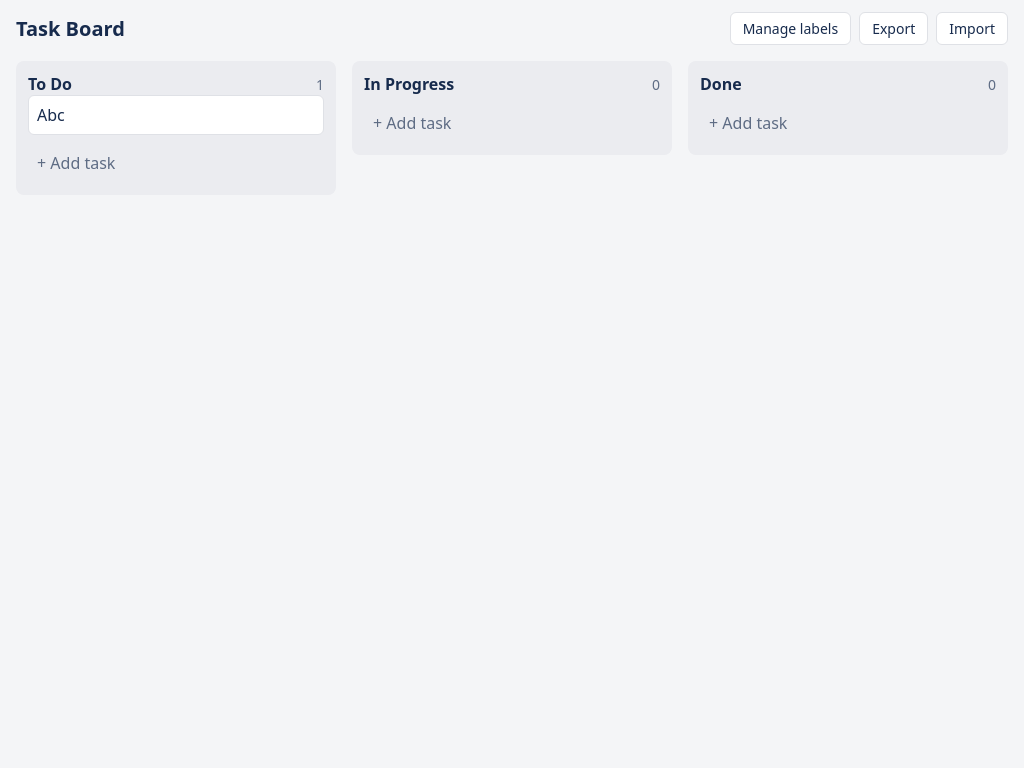
Test: Keyboard use of the modal › reverts a cleared title when closed with Escape
Click the heading "Abc".
click(51, 115)  # box [37,104,65,126]
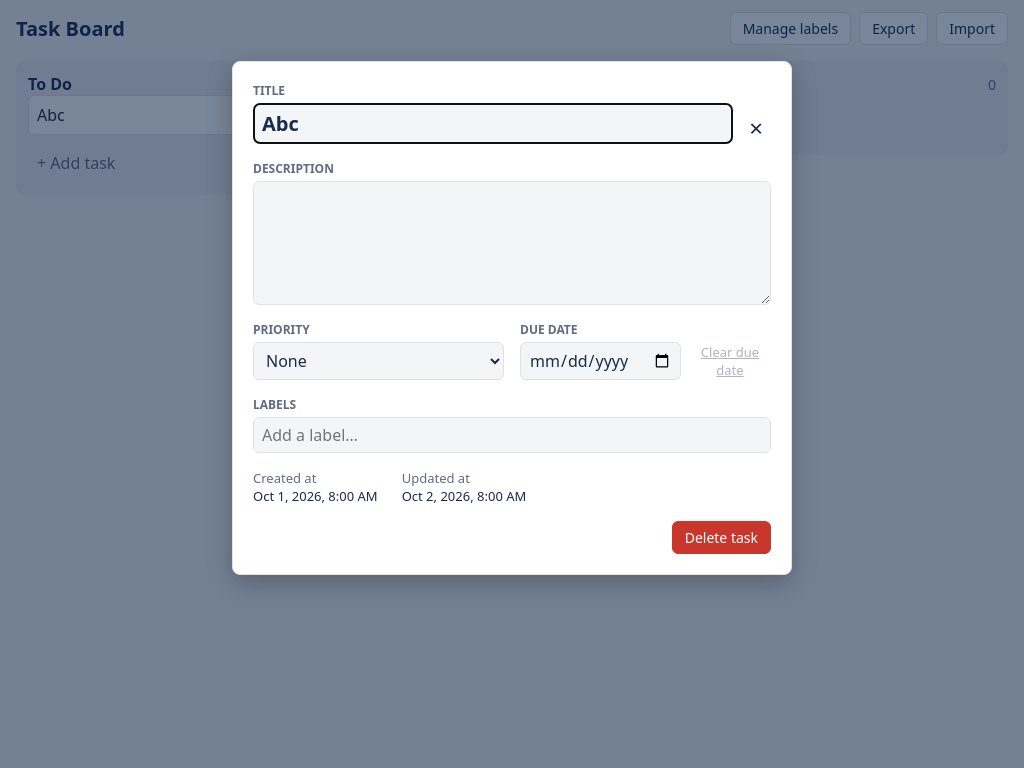
Press End Backspace Backspace Backspace {E
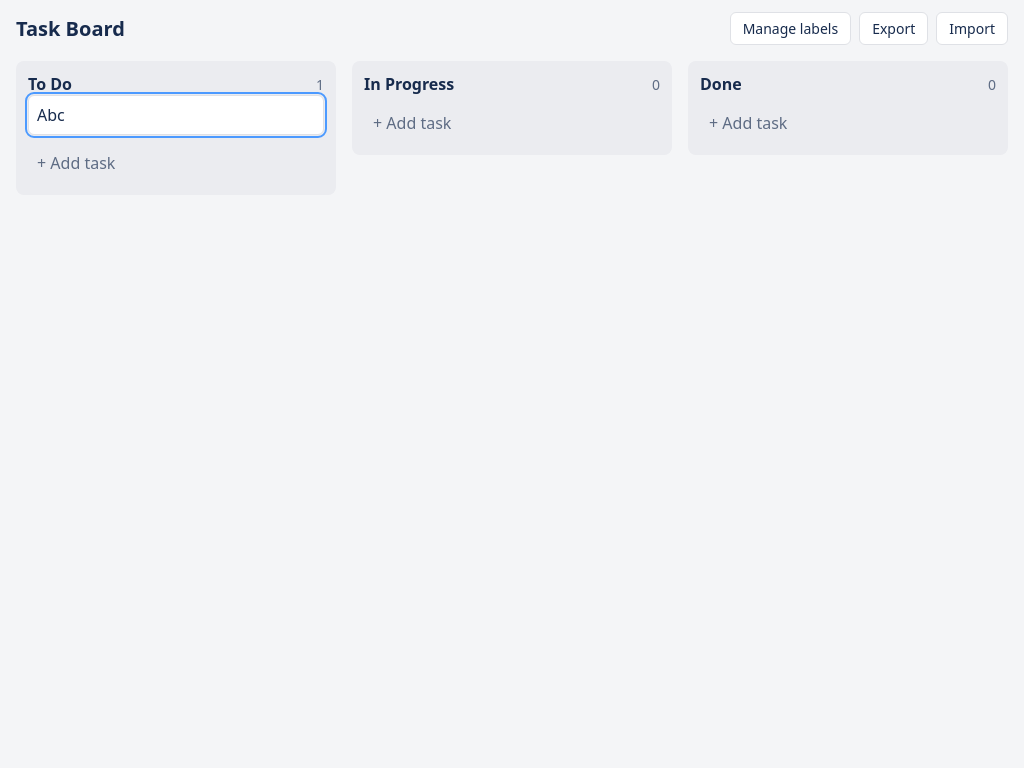
Expected: the heading "Abc" is shown, [37,104,65,126]
Expected: the dialog is gone
